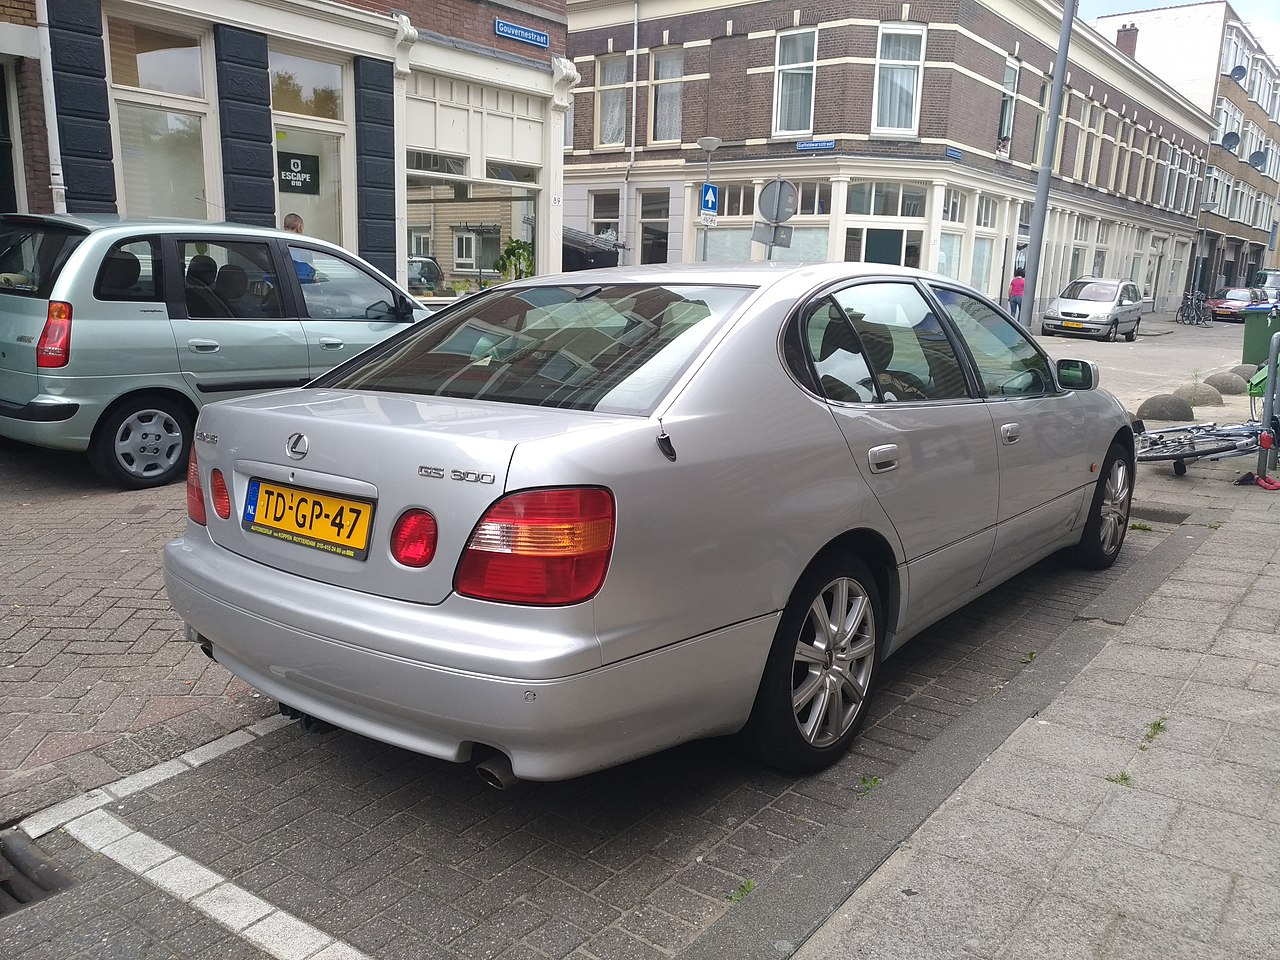plate: (239, 474, 377, 562)
